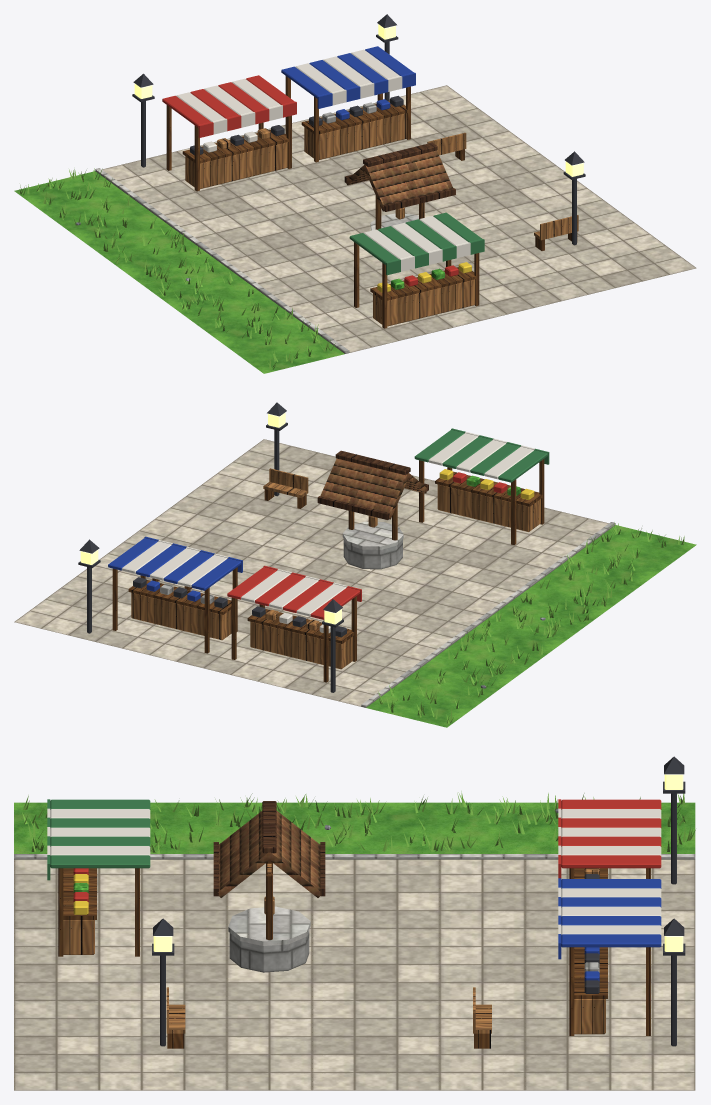
The model's file is chunk_1_8.glb.
3 renders of one model, top to bottom at view 1: azimuth 30°, elevation 25°; view 2: azimuth 150°, elevation 25°; view 3: azimuth 270°, elevation 25°, orthographic. The views are drawn at different scales.
Parts seen in each view (by area): view 1: chunk_1_8; view 2: chunk_1_8; view 3: chunk_1_8.
Boxes of the visible parts, x1,y1,x2,y2 form: chunk_1_8: [14, 14, 696, 373]; chunk_1_8: [14, 402, 696, 727]; chunk_1_8: [14, 756, 695, 1090].
Bounding box in the file's own units: 16.03 × 3.46 × 16.04.
20 materials, 12 textured.
